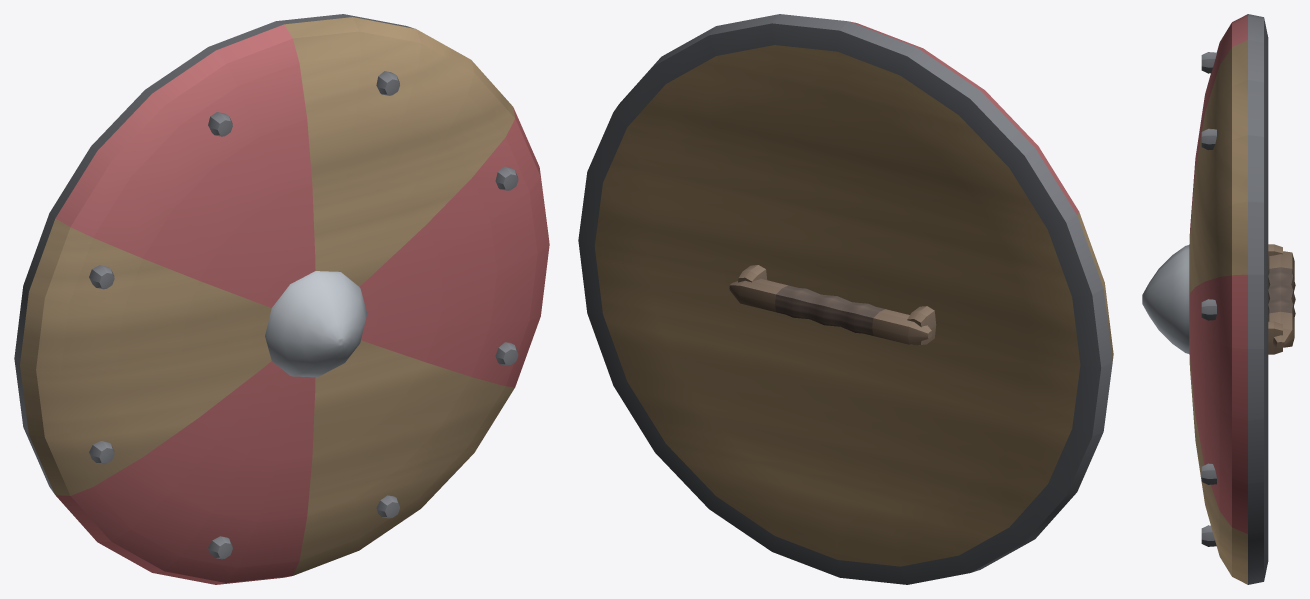
The model's file is bulwark-shield.glb.
The picture shows the model from 3 angles, left to right: view 1: azimuth 30°, elevation 25°; view 2: azimuth 150°, elevation 25°; view 3: azimuth 270°, elevation 25°; orthographic projection. The views are drawn at different scales.
Parts seen in each view (by area): view 1: WPN_08_Shield_Round_Bulwark__DISC.001, WPN_08_Shield_Round_Bulwark__FITTINGS.001; view 2: WPN_08_Shield_Round_Bulwark__DISC.001, WPN_08_Shield_Round_Bulwark__GRIP.001; view 3: WPN_08_Shield_Round_Bulwark__DISC.001, WPN_08_Shield_Round_Bulwark__FITTINGS.001, WPN_08_Shield_Round_Bulwark__GRIP.001.
Boxes of the visible parts, left/top/right/bottom form: WPN_08_Shield_Round_Bulwark__DISC.001: left=14, top=14, right=549, bottom=584; WPN_08_Shield_Round_Bulwark__FITTINGS.001: left=89, top=71, right=518, bottom=559; WPN_08_Shield_Round_Bulwark__DISC.001: left=578, top=14, right=1113, bottom=584; WPN_08_Shield_Round_Bulwark__GRIP.001: left=729, top=265, right=936, bottom=345; WPN_08_Shield_Round_Bulwark__DISC.001: left=1189, top=14, right=1268, bottom=584; WPN_08_Shield_Round_Bulwark__FITTINGS.001: left=1142, top=52, right=1216, bottom=546; WPN_08_Shield_Round_Bulwark__GRIP.001: left=1268, top=244, right=1295, bottom=354.
Size of the model in its own units: 2.5 by 2.5 by 0.6701.
Materials: 1 (1 with a texture image).
